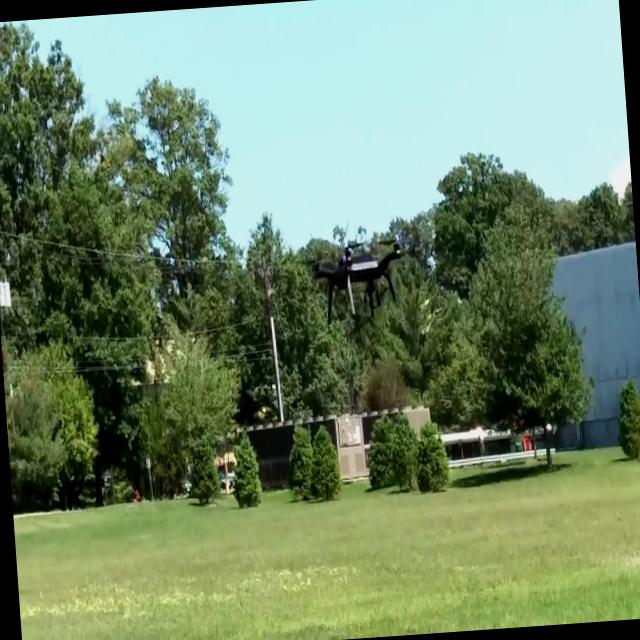drone: (299, 234, 415, 322)
